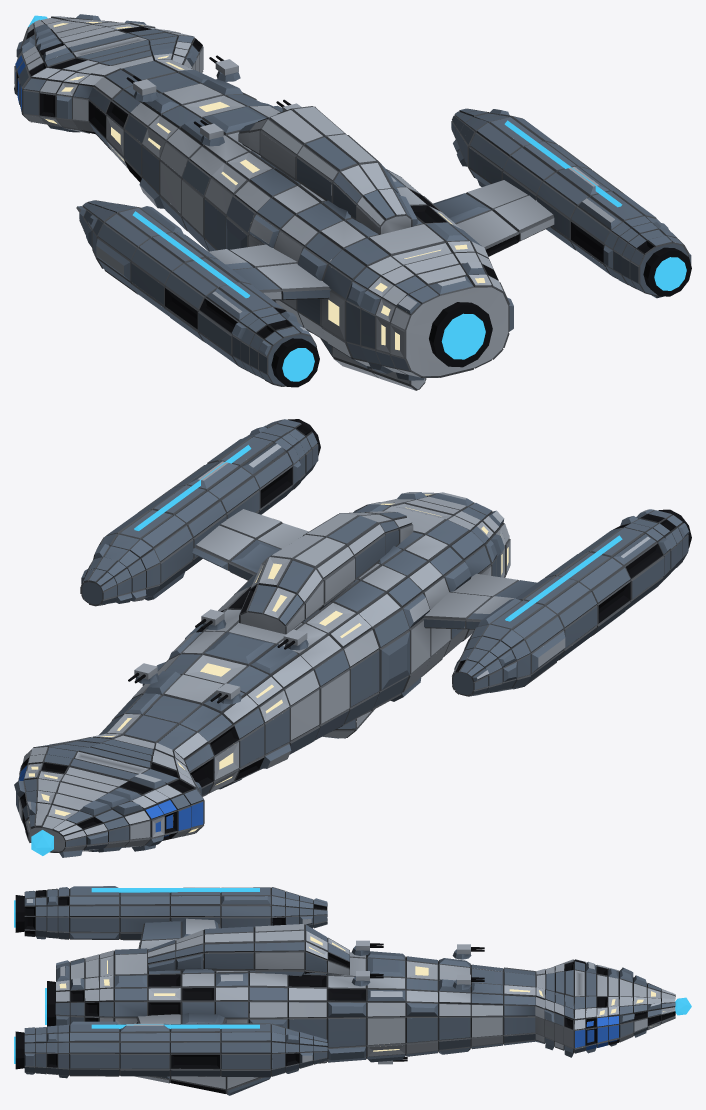
Rendered from harrier.glb.
3 renders of one model, top to bottom at view 1: azimuth 30°, elevation 25°; view 2: azimuth 150°, elevation 25°; view 3: azimuth 270°, elevation 25°, orthographic. The views are drawn at different scales.
Parts seen in each view (by area): view 1: harrier; view 2: harrier; view 3: harrier.
Part boxes in pixels (left/top/right/bottom): harrier: left=14, top=14, right=691, bottom=390; harrier: left=14, top=419, right=691, bottom=857; harrier: left=14, top=886, right=691, bottom=1095.
Size of the model in its own units: 157 by 74.81 by 280.
